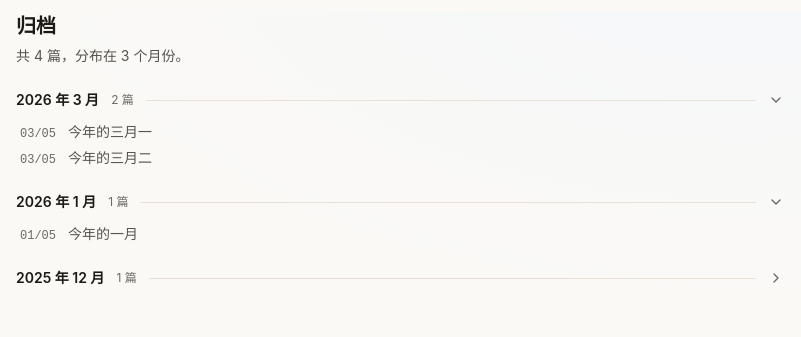
Test case: ArchiveView · 折叠规则 › 点分组头展开往年、再点收起，aria-expanded 与可见性同步
This screenshot has width=801, height=337.
Click the button "2025 年 12 月 1 篇". click: (60, 278)
box: [16,268,784,288]
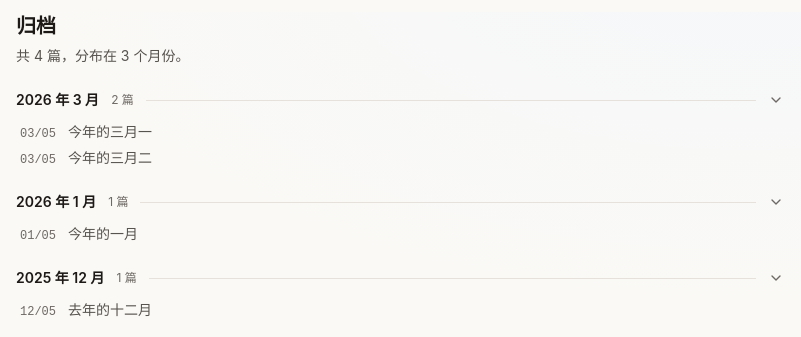
Now the button "2025 年 12 月 1 篇" is expanded
Now the element showing "2025 年 12 月 1 篇 12/05 去年的十二月" is shown, box [16,268,784,320]
Click the button "2025 年 12 月 1 篇". click: (60, 278)
box: [16,268,784,288]
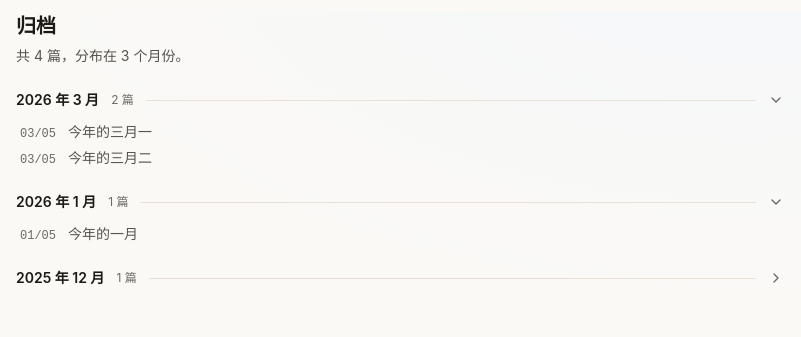
Now the button "2025 年 12 月 1 篇" is collapsed, box [16,268,784,288]
